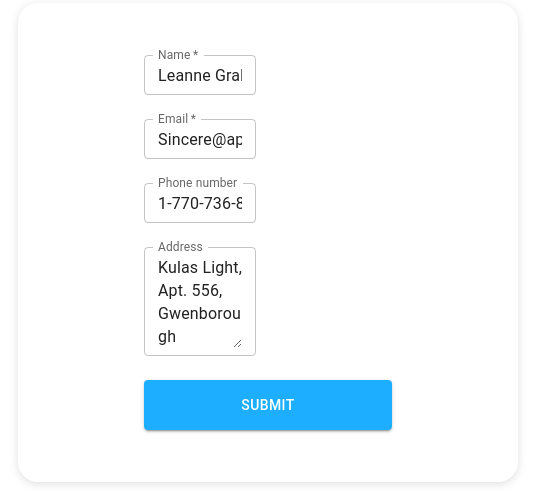
Form Interaction Tests › should allow editing fields
Replace the text in the field named "name" with "New Name": (200, 75) 144,55 -> 256,95
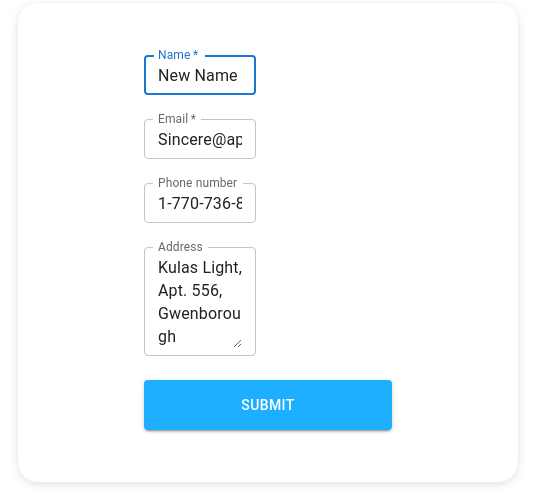
expect the field named "name" holds "New Name": met, box 144,55 -> 256,95
Replace the text in the field named "email" with "new@example.com": (200, 139) 144,119 -> 256,159
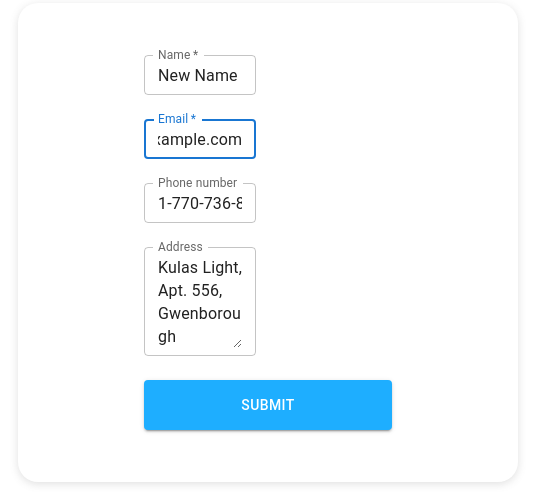
expect the field named "email" holds "new@example.com": met, box 144,119 -> 256,159
Replace the text in the text box named "address" with "New Street, New Suite, New City": (200, 302) 158,256 -> 242,348
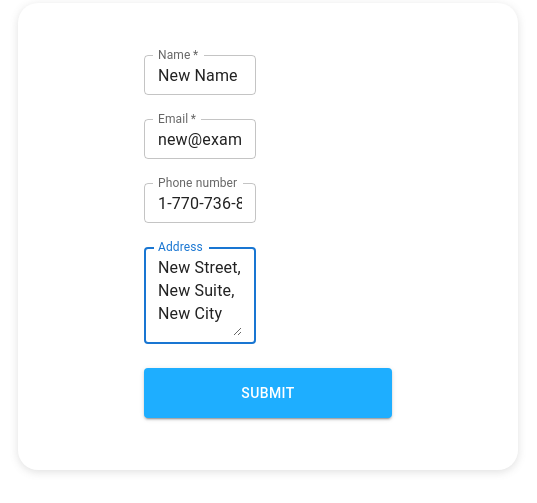
expect the text box named "address" holds "New Street, New Suite, New City": met, box 158,256 -> 242,336
Replace the text in the field named "phone" with "123-456-7890": (200, 203) 144,183 -> 256,223
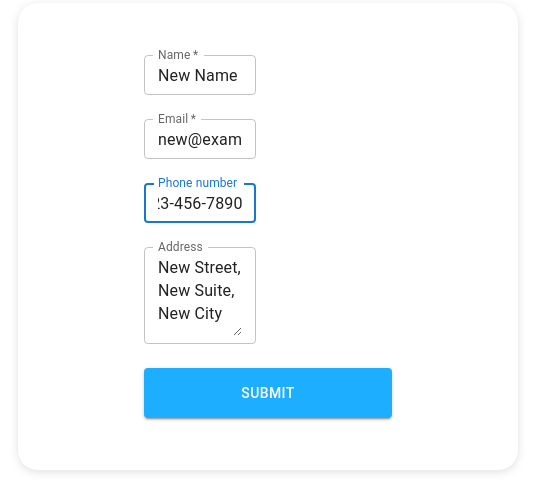
expect the field named "phone" holds "123-456-7890": met, box 144,183 -> 256,223
